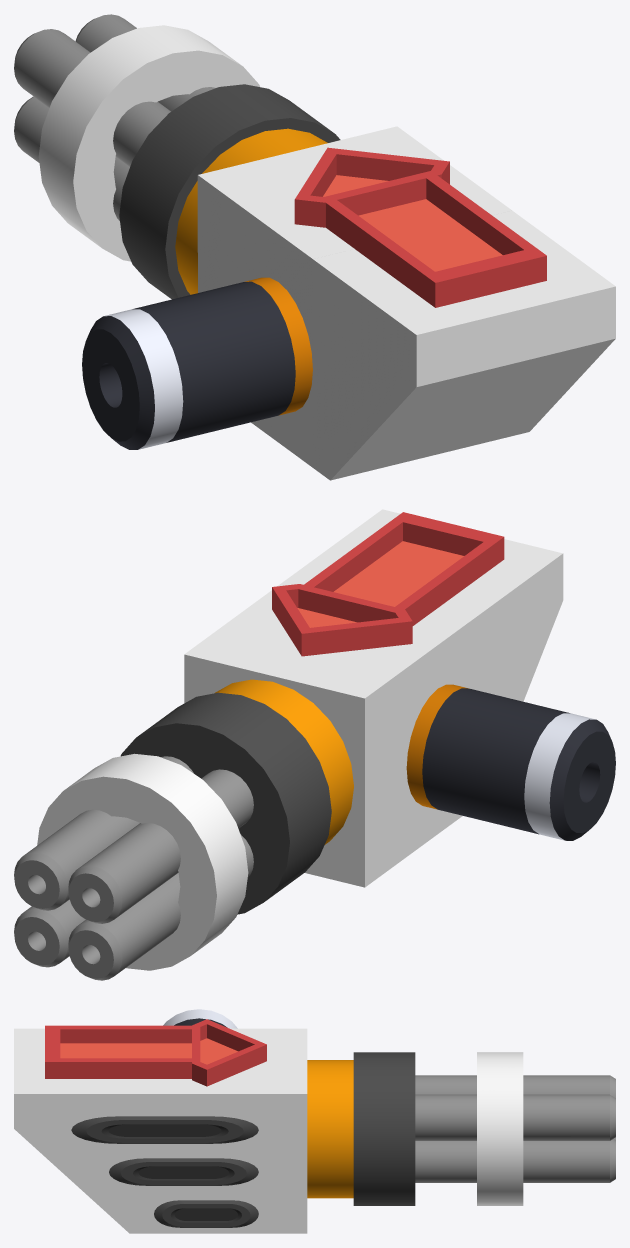
Rendered from Pico_SideMiniGun.glb.
The picture shows the model from 3 angles, top to bottom: view 1: azimuth 30°, elevation 25°; view 2: azimuth 150°, elevation 25°; view 3: azimuth 270°, elevation 25°; orthographic projection. The views are drawn at different scales.
Visible parts, largest first — view 1: mergedBlocks(Clone); view 2: mergedBlocks(Clone); view 3: mergedBlocks(Clone).
Part boxes in pixels (<box>): mergedBlocks(Clone): <box>14,14,615,480</box>; mergedBlocks(Clone): <box>14,509,615,980</box>; mergedBlocks(Clone): <box>14,1009,615,1233</box>.
Size of the model in its own units: 1.86 by 1.12 by 3.9.
Materials: 1 (1 with a texture image).
